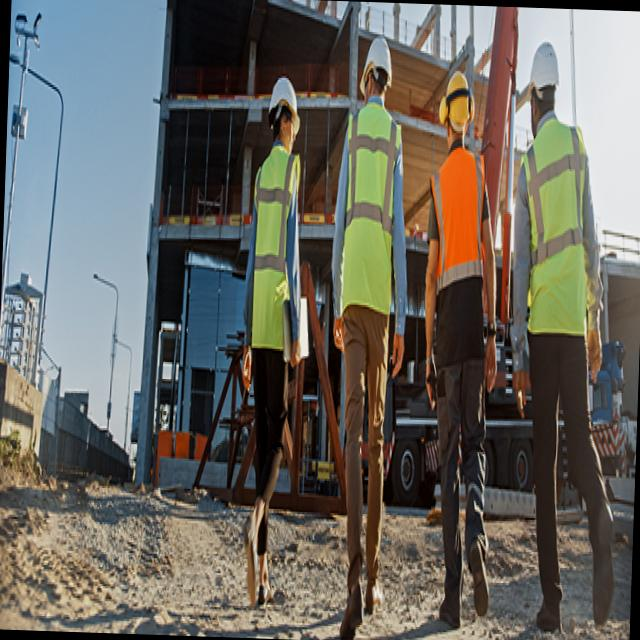helmet: (436, 54, 486, 143), (525, 8, 564, 104), (358, 23, 404, 96), (264, 56, 306, 132)
vest: (239, 143, 305, 386), (522, 123, 592, 350), (337, 104, 404, 320), (424, 149, 489, 332)
